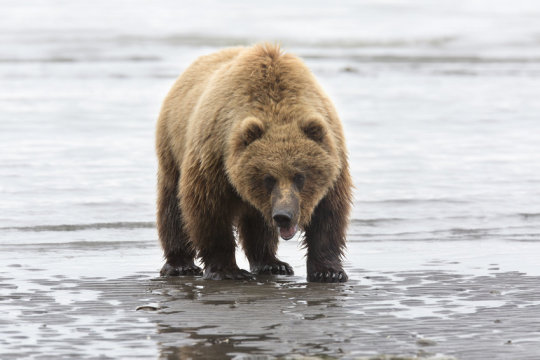bear: (236, 115, 341, 242)
